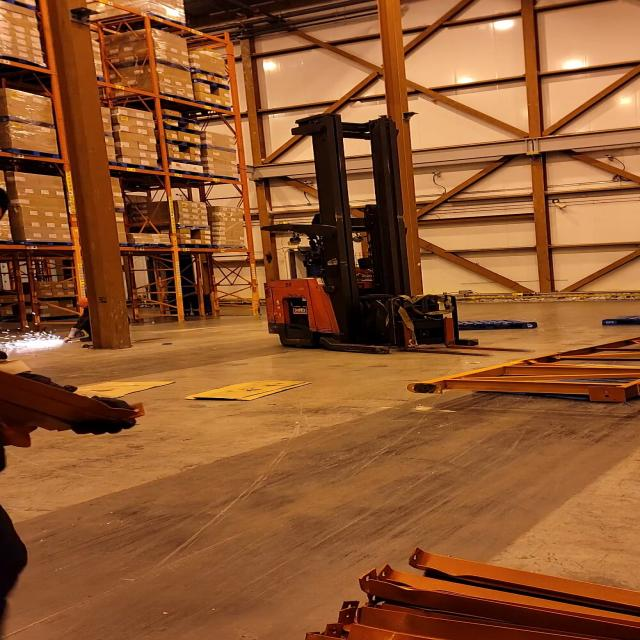forklift: (262, 122, 483, 359)
human: (0, 184, 153, 598), (55, 289, 105, 346)
objectofinterest: (401, 330, 640, 415), (182, 376, 309, 402), (54, 377, 176, 398), (445, 315, 539, 336), (601, 311, 640, 329)
